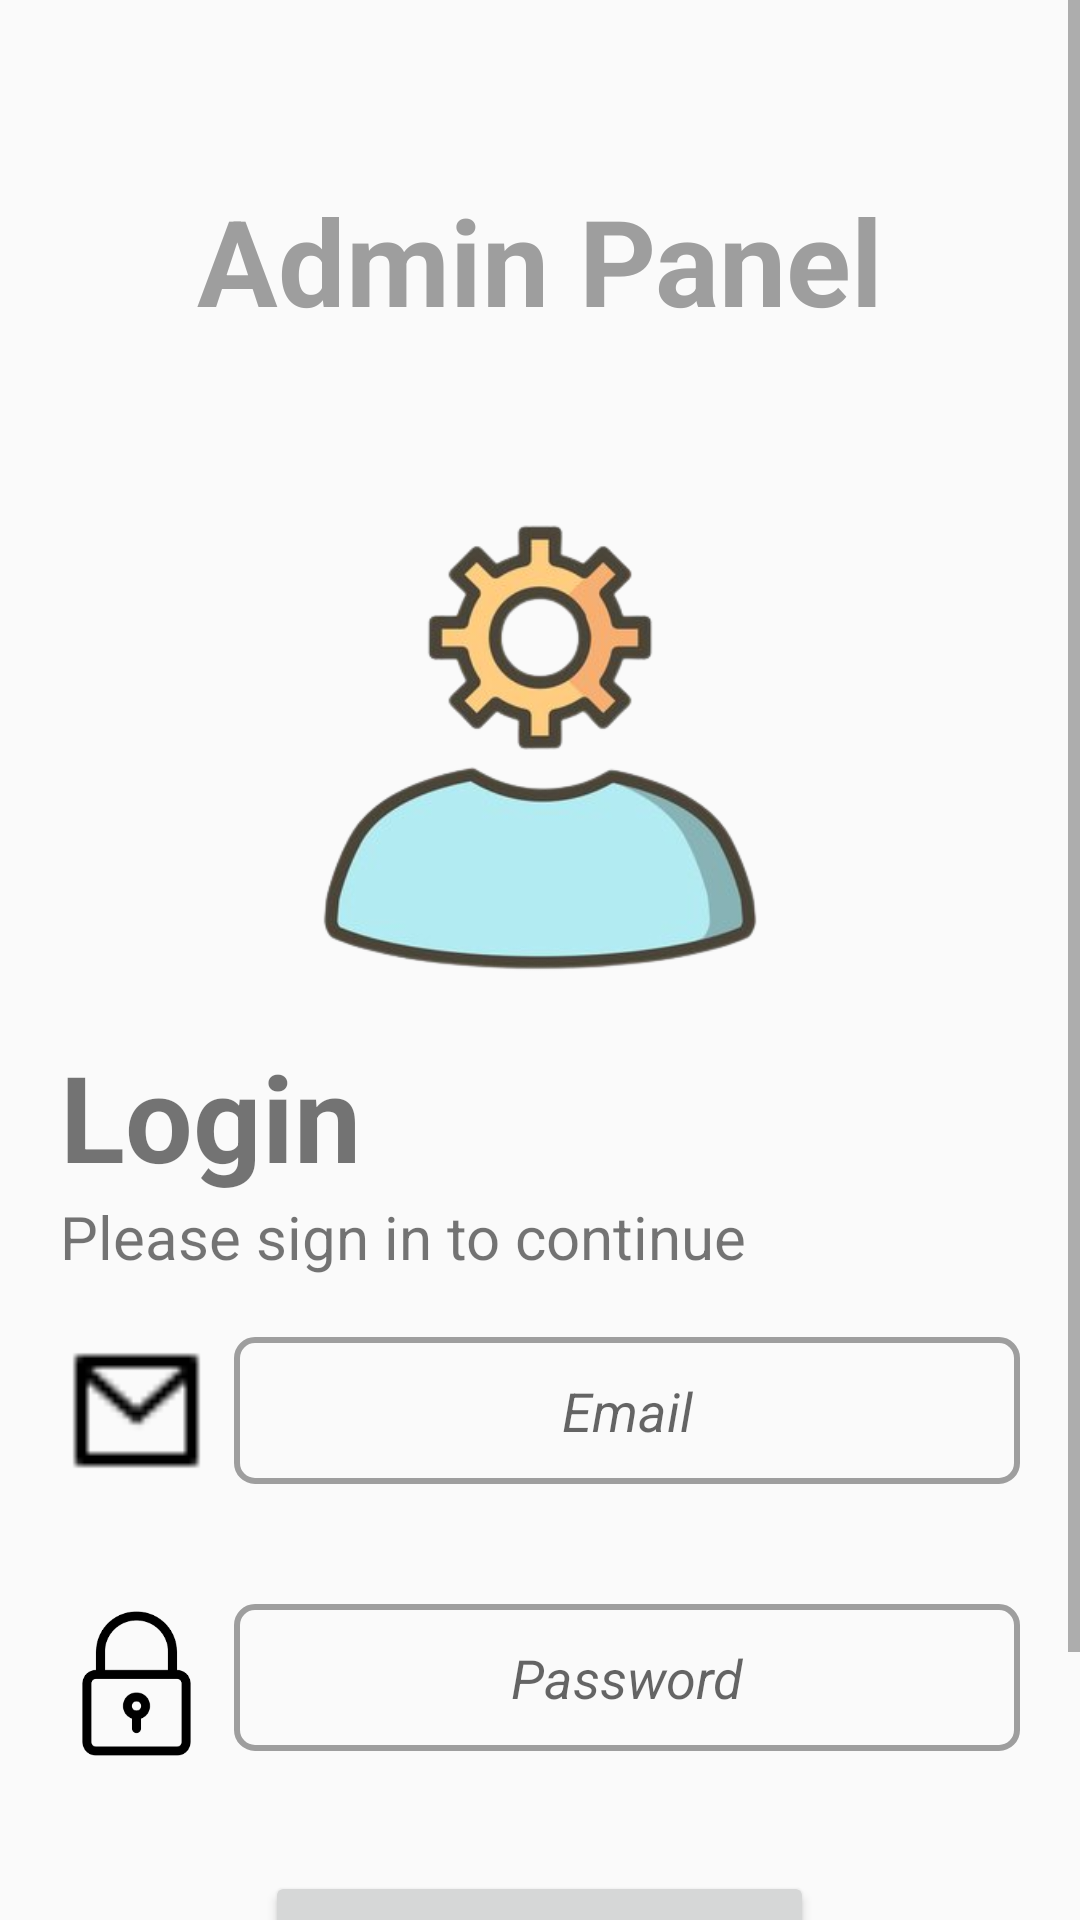

Icon click points for this 1080 x 1920 phone screenshot, format point (x, y):
lock: point (136, 1683)
